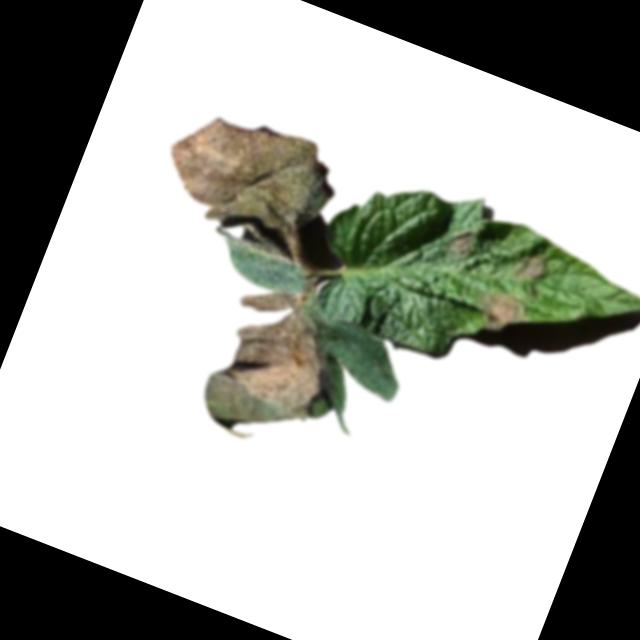Late_blight: (151, 94, 350, 262), (193, 274, 354, 459), (477, 285, 531, 338), (514, 249, 553, 287), (450, 227, 480, 260)
